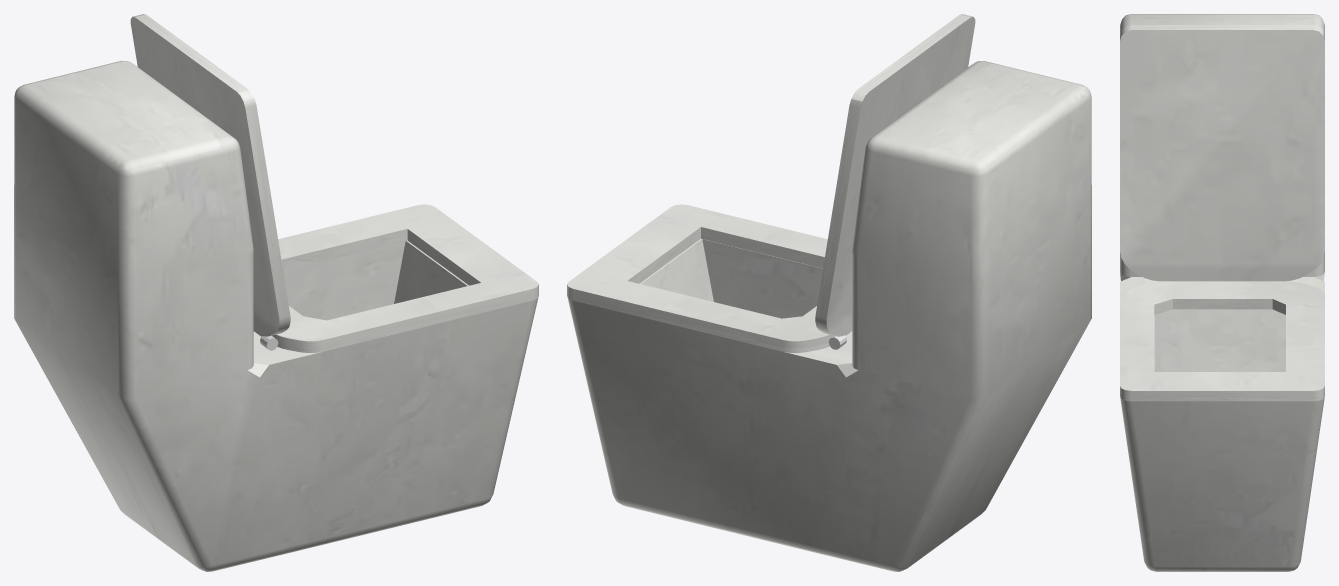
File: Toilet2.fbx
3 renders of one model, left to right at view 1: azimuth 30°, elevation 25°; view 2: azimuth 150°, elevation 25°; view 3: azimuth 270°, elevation 25°, orthographic. The views are drawn at different scales.
Parts seen in each view (by area): view 1: Cube, Cube.002, Cube.001; view 2: Cube, Cube.002, Cube.001; view 3: Cube.001, Cube, Cube.002.
Part boxes in pixels (bbox=[...]): Cube: bbox=[14, 60, 538, 571]; Cube.002: bbox=[253, 204, 538, 352]; Cube.001: bbox=[130, 14, 290, 336]; Cube: bbox=[567, 61, 1091, 571]; Cube.002: bbox=[567, 204, 852, 352]; Cube.001: bbox=[815, 14, 975, 336]; Cube.001: bbox=[1120, 25, 1324, 281]; Cube: bbox=[1120, 14, 1324, 571]; Cube.002: bbox=[1120, 281, 1324, 401].
Bounding box in the file's own units: 50.33 × 55.72 × 23.8.
1 material, 1 textured.
